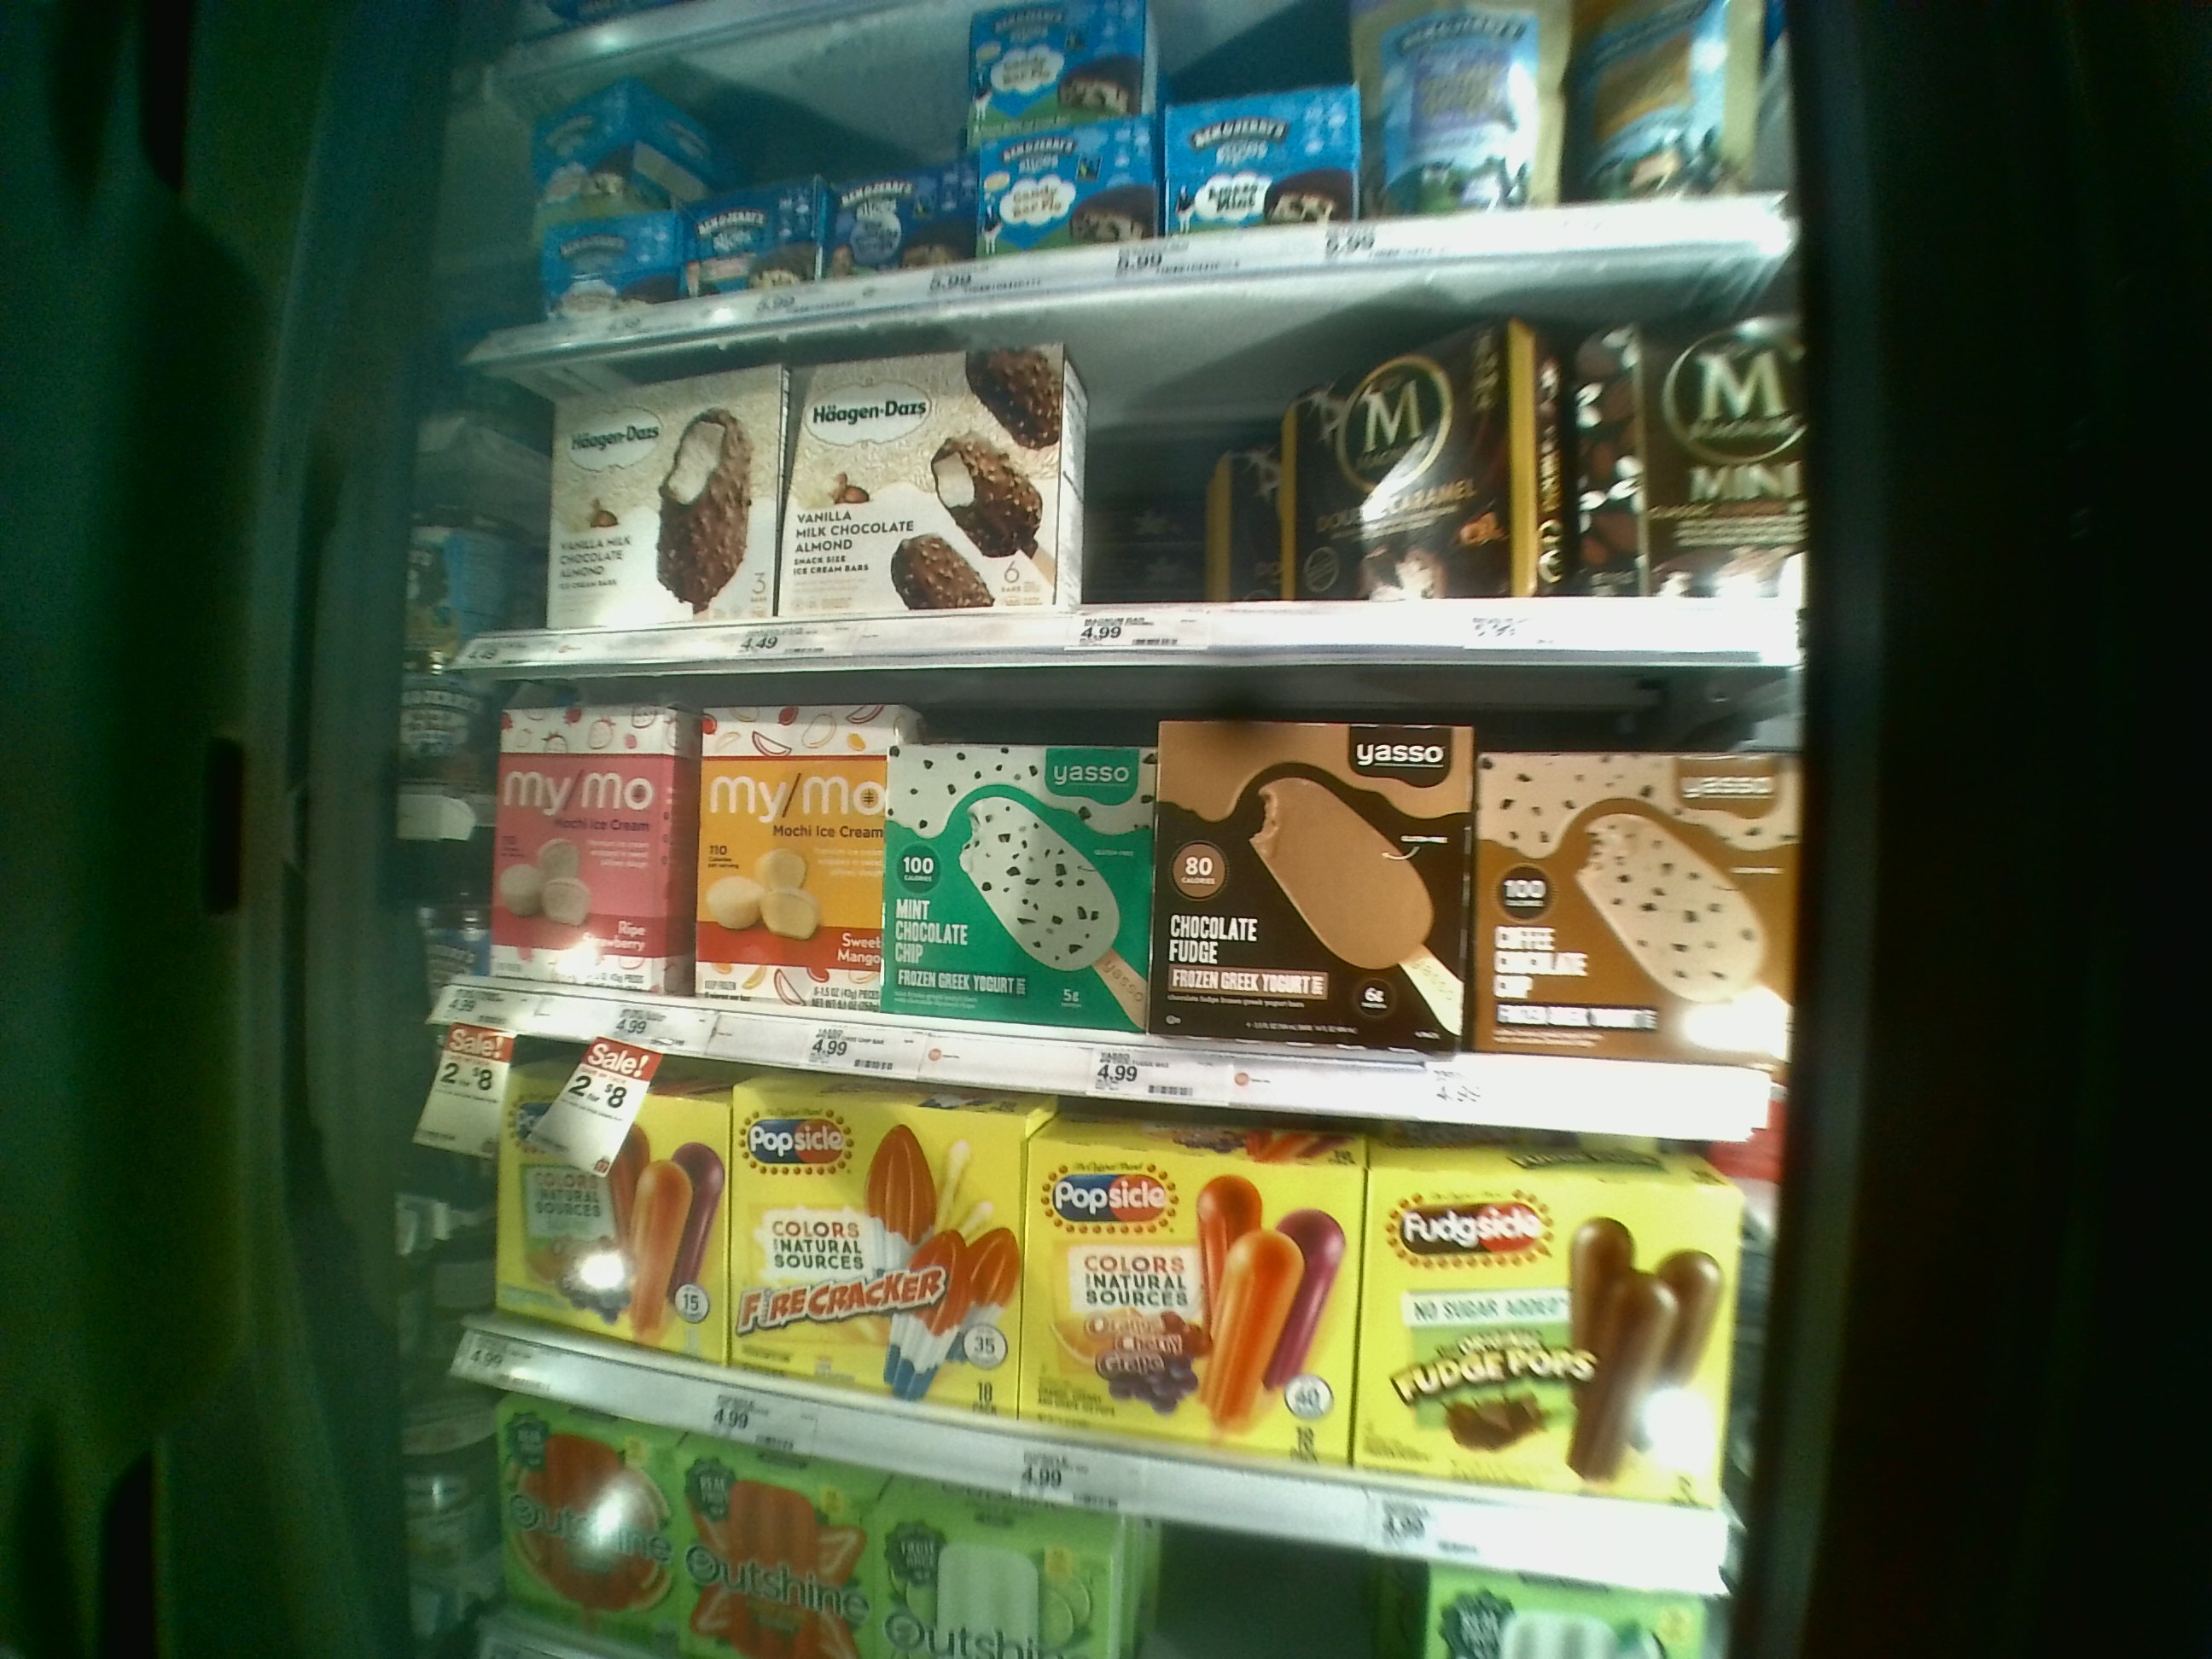shelf: (451, 664, 1789, 1148), (451, 355, 1801, 671)
